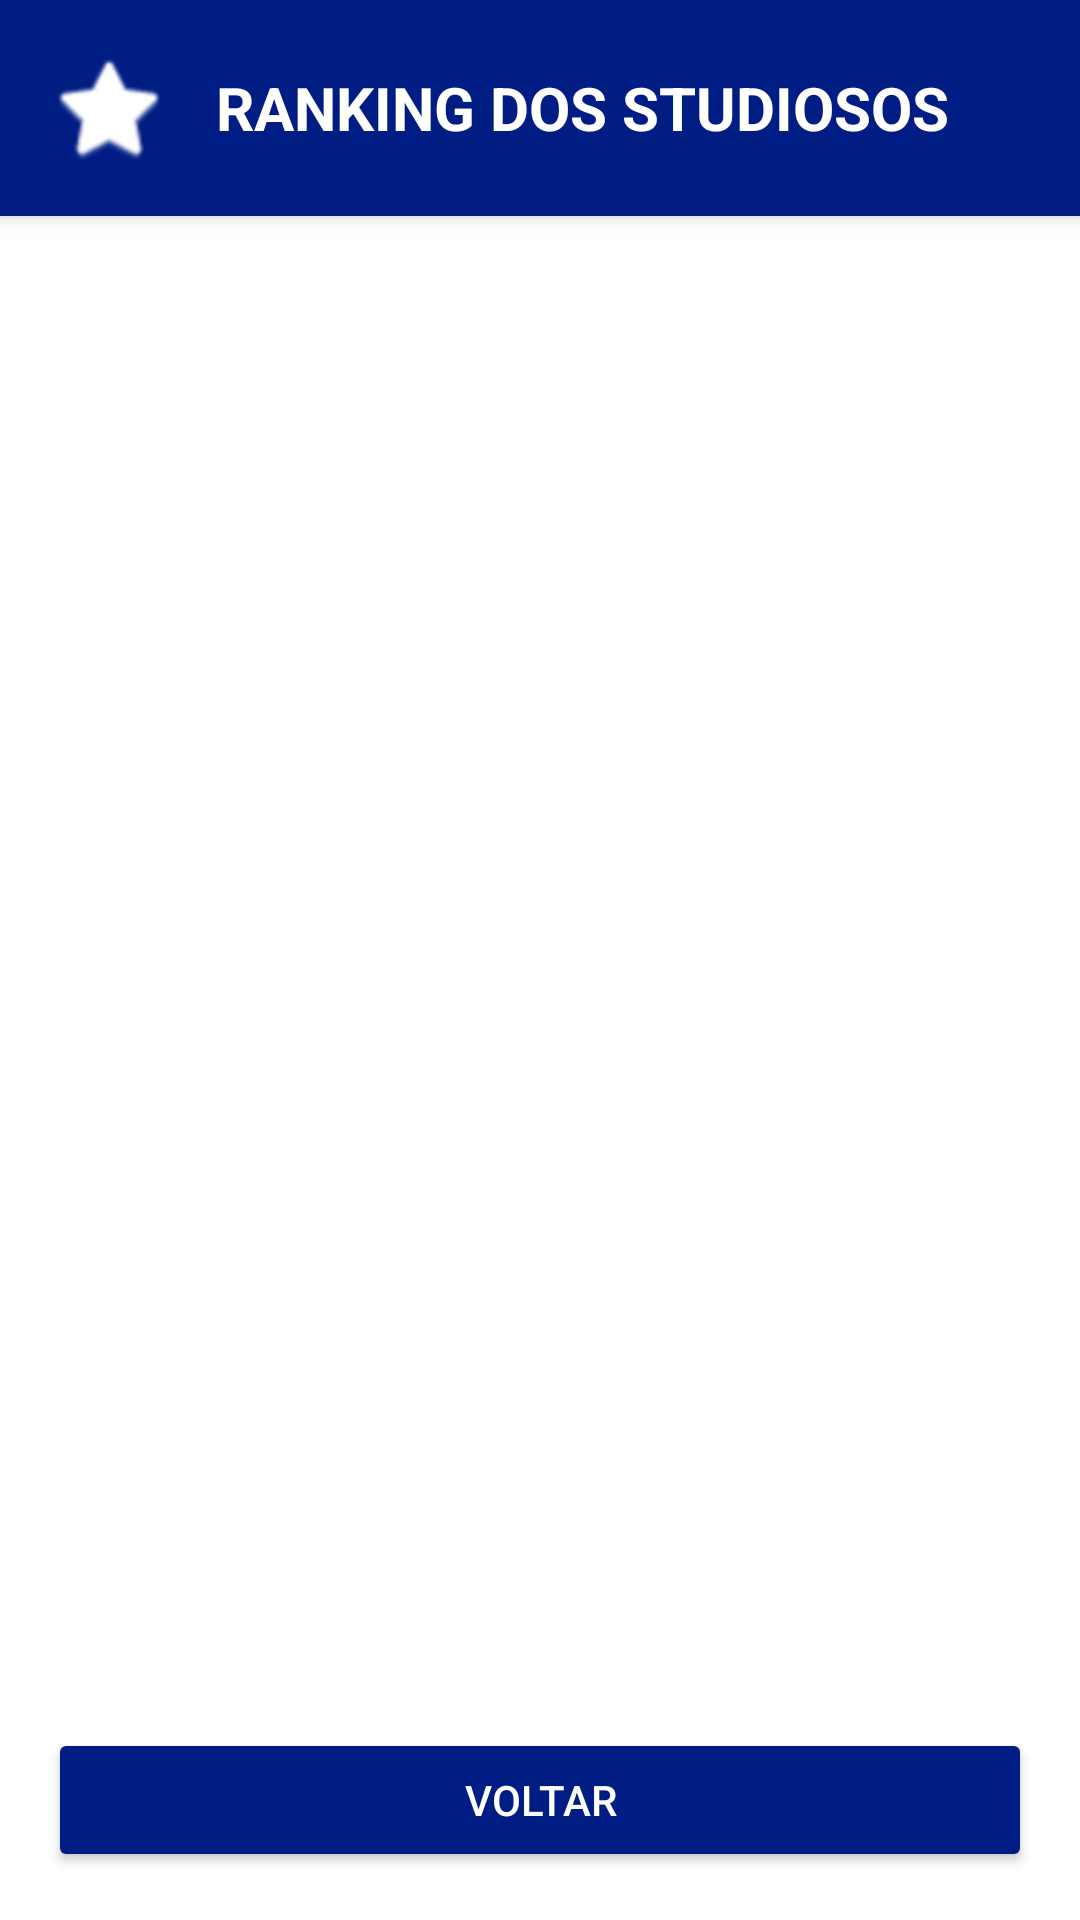

Named icons in this screenshot (1080 x 1920) and their centers, (x,y):
star on: (109,109)
